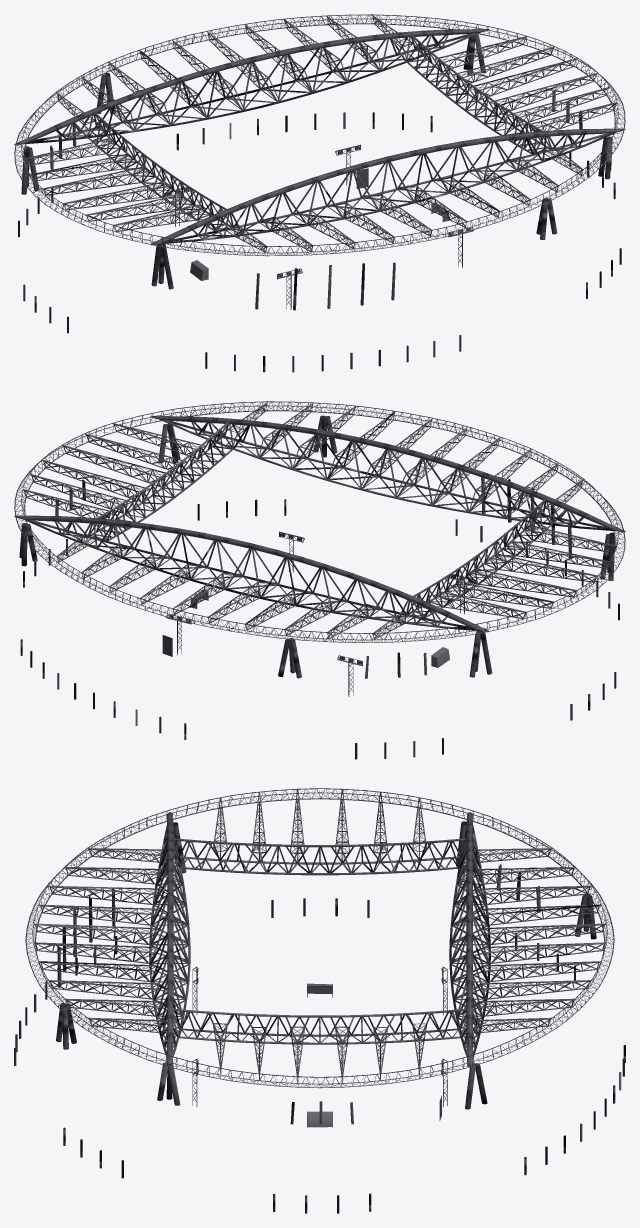
The model's file is echafaudage.obj.
3 renders of one model, top to bottom at view 1: azimuth 30°, elevation 25°; view 2: azimuth 150°, elevation 25°; view 3: azimuth 270°, elevation 25°, orthographic. The views are drawn at different scales.
Parts seen in each view (by area): view 1: nmodel_10_27_pipes1; view 2: nmodel_10_27_pipes1; view 3: nmodel_10_27_pipes1.
Boxes of the visible parts, x1=… form: nmodel_10_27_pipes1: x1=14, y1=14, x2=625, y2=372; nmodel_10_27_pipes1: x1=14, y1=401, x2=625, y2=759; nmodel_10_27_pipes1: x1=14, y1=788, x2=625, y2=1213.
Size of the model in its own units: 234 by 58.26 by 203.
Materials: 1 (1 with a texture image).
